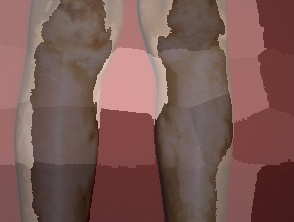vitiligo: (3, 0, 126, 222), (145, 0, 243, 222)
